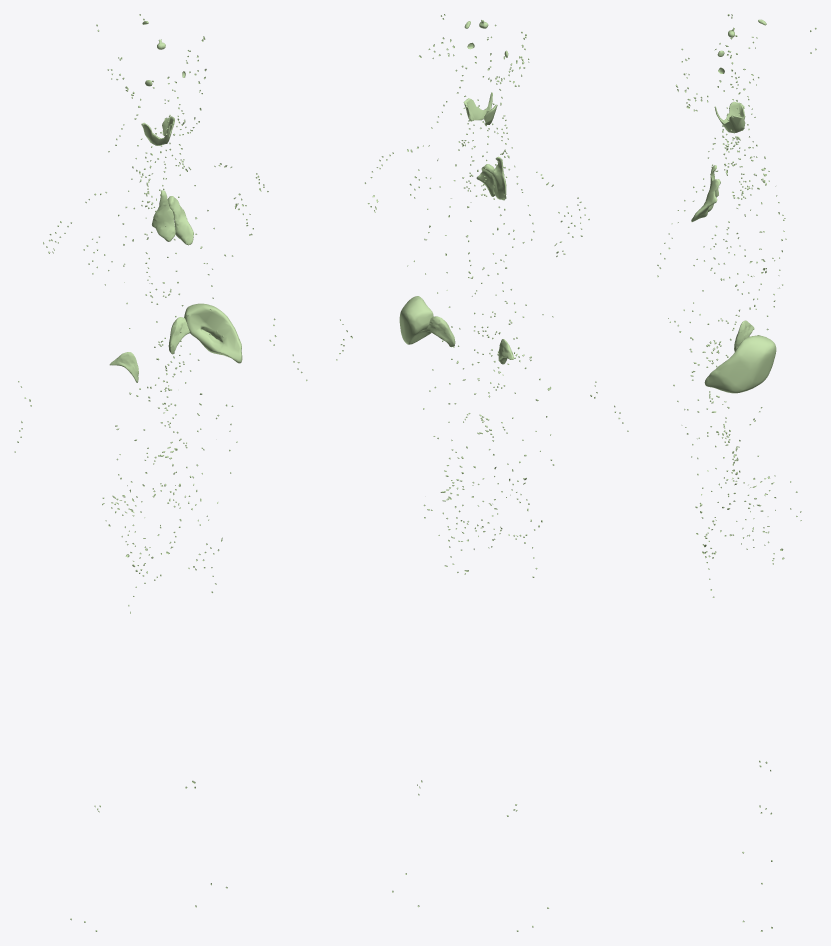
The model's file is endocrino.glb.
3 views of the same model, side by side, from view 1: azimuth 30°, elevation 25°; view 2: azimuth 150°, elevation 25°; view 3: azimuth 270°, elevation 25° (orthographic).
Visible parts, largest first — view 1: FJ2561, FJ3151, FJ3150; view 2: FJ2561; view 3: FJ2561, ZA0331, FJ3150.
Boxes of the visible parts, x1,y1,x2,y2 form: FJ2561: (184,303,242,363); FJ3151: (152,190,175,241); FJ3150: (167,196,193,245); FJ2561: (399,296,433,344); FJ2561: (704,335,776,393); ZA0331: (714,101,745,133); FJ3150: (691,179,720,221).
Size of the model in its own units: 0.4436 by 1.3 by 0.2115.
